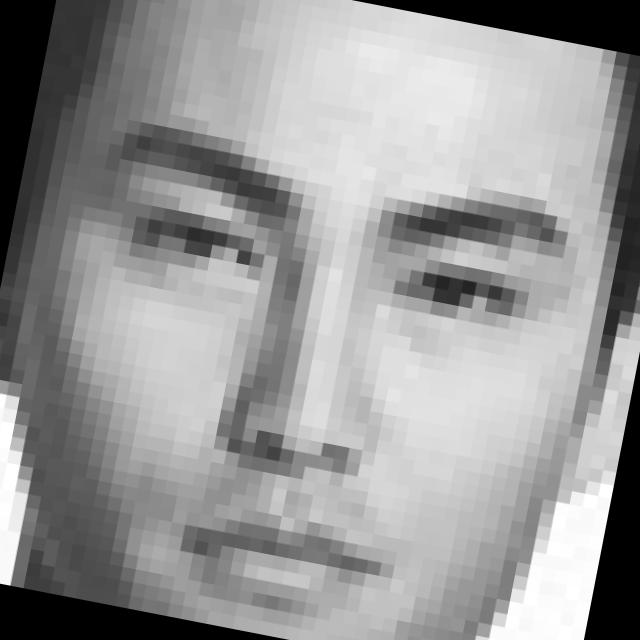neutral: (11, 113, 591, 640)
